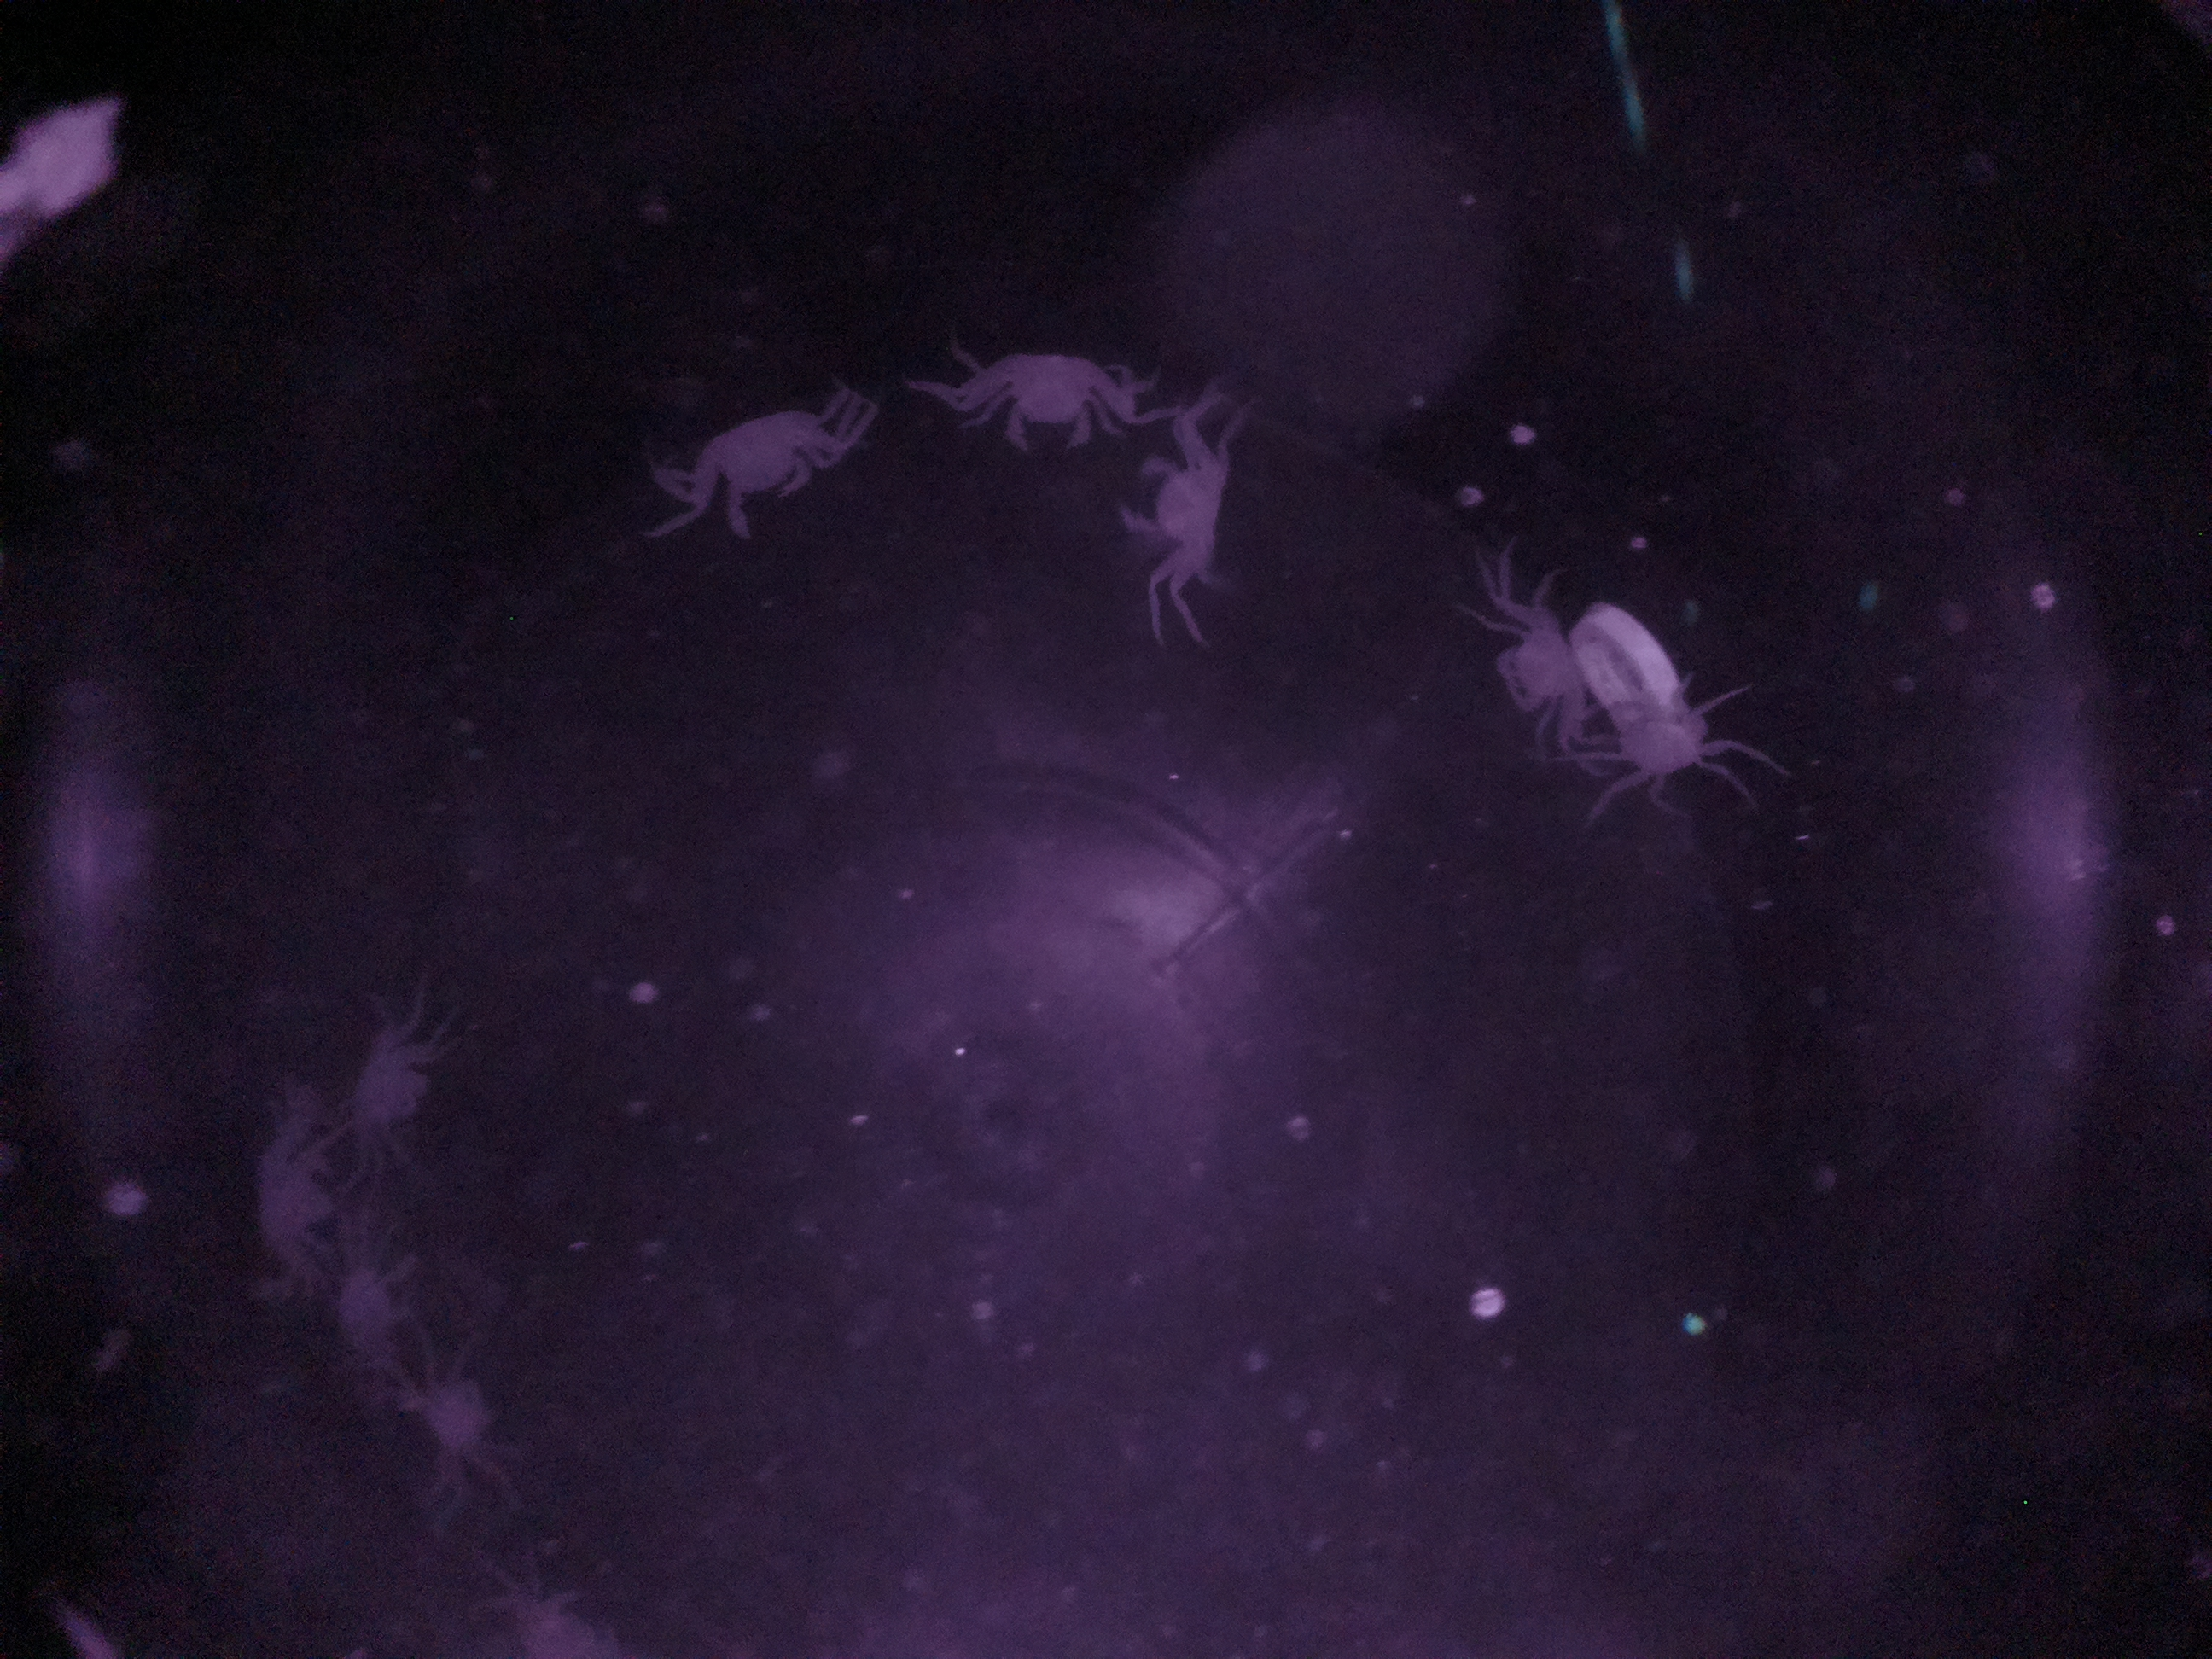Crab: (669, 382, 852, 549), (1103, 434, 1275, 587), (951, 347, 1132, 464), (1480, 587, 1609, 728)
